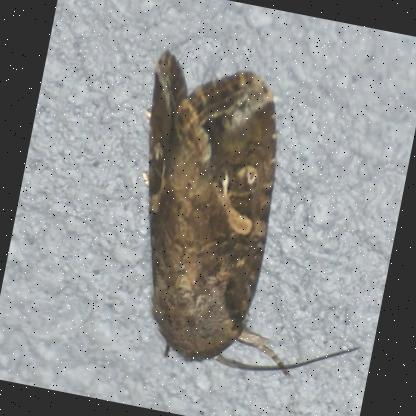Fall Armyworm Moth: (94, 41, 413, 401)
